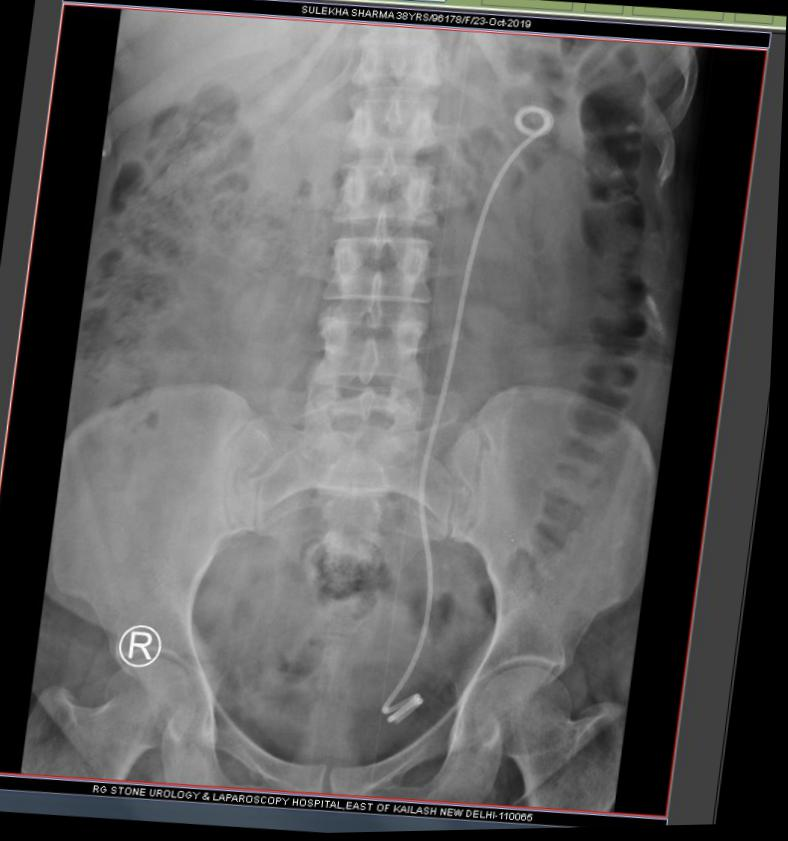vertebrae: (337, 81, 448, 162)
